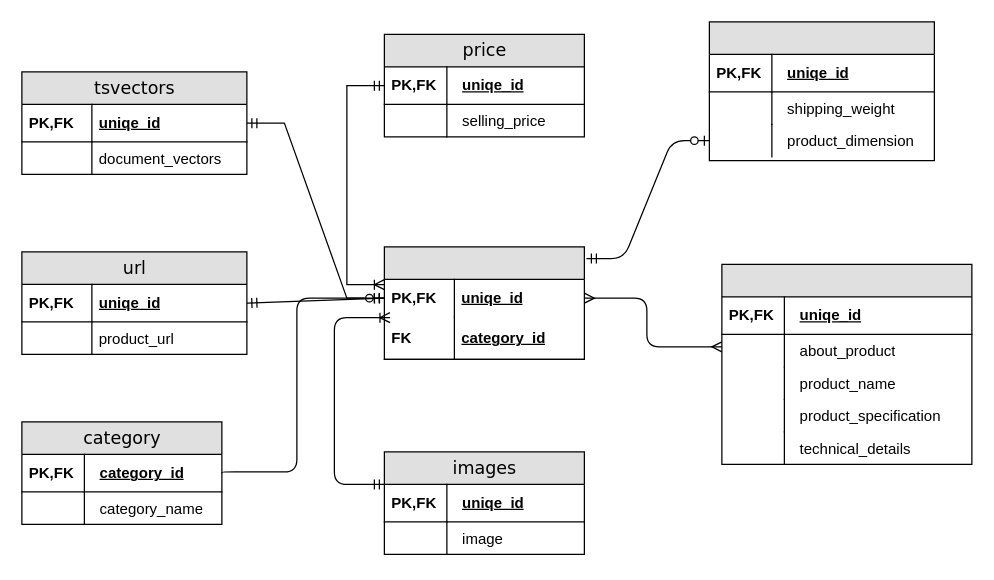
Image size: 994x580. Some labels were removed from this diagram. Each missing label, with the box of its shape:
product_details: (721, 263, 972, 464)
product_size_weight: (708, 21, 934, 161)
products: (383, 246, 584, 359)
